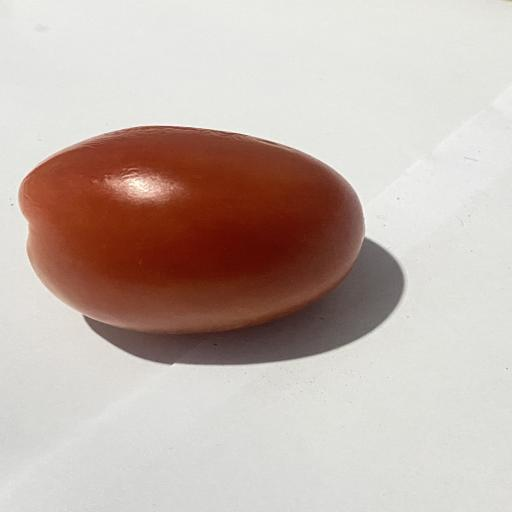spoiled: (19, 126, 364, 333)
